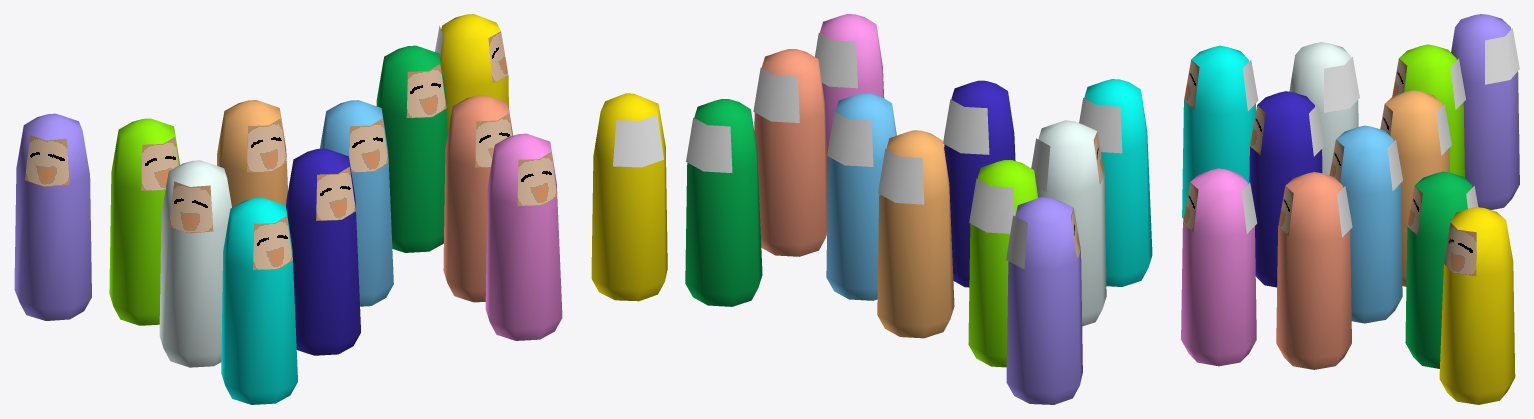
Rendered from M_MOB5.glb.
3 views of the same model, side by side, from view 1: azimuth 30°, elevation 25°; view 2: azimuth 150°, elevation 25°; view 3: azimuth 270°, elevation 25° (orthographic). The views are drawn at different scales.
Visible parts, largest first — view 1: ROT; view 2: ROT; view 3: ROT.
Part boxes in pixels (x1,y1,x2,y2): ROT: (14,14,562,404); ROT: (591,14,1152,404); ROT: (1181,14,1519,404).
Size of the model in its own units: 9 by 3.4 by 5.72.
Materials: 3 (3 with a texture image).
